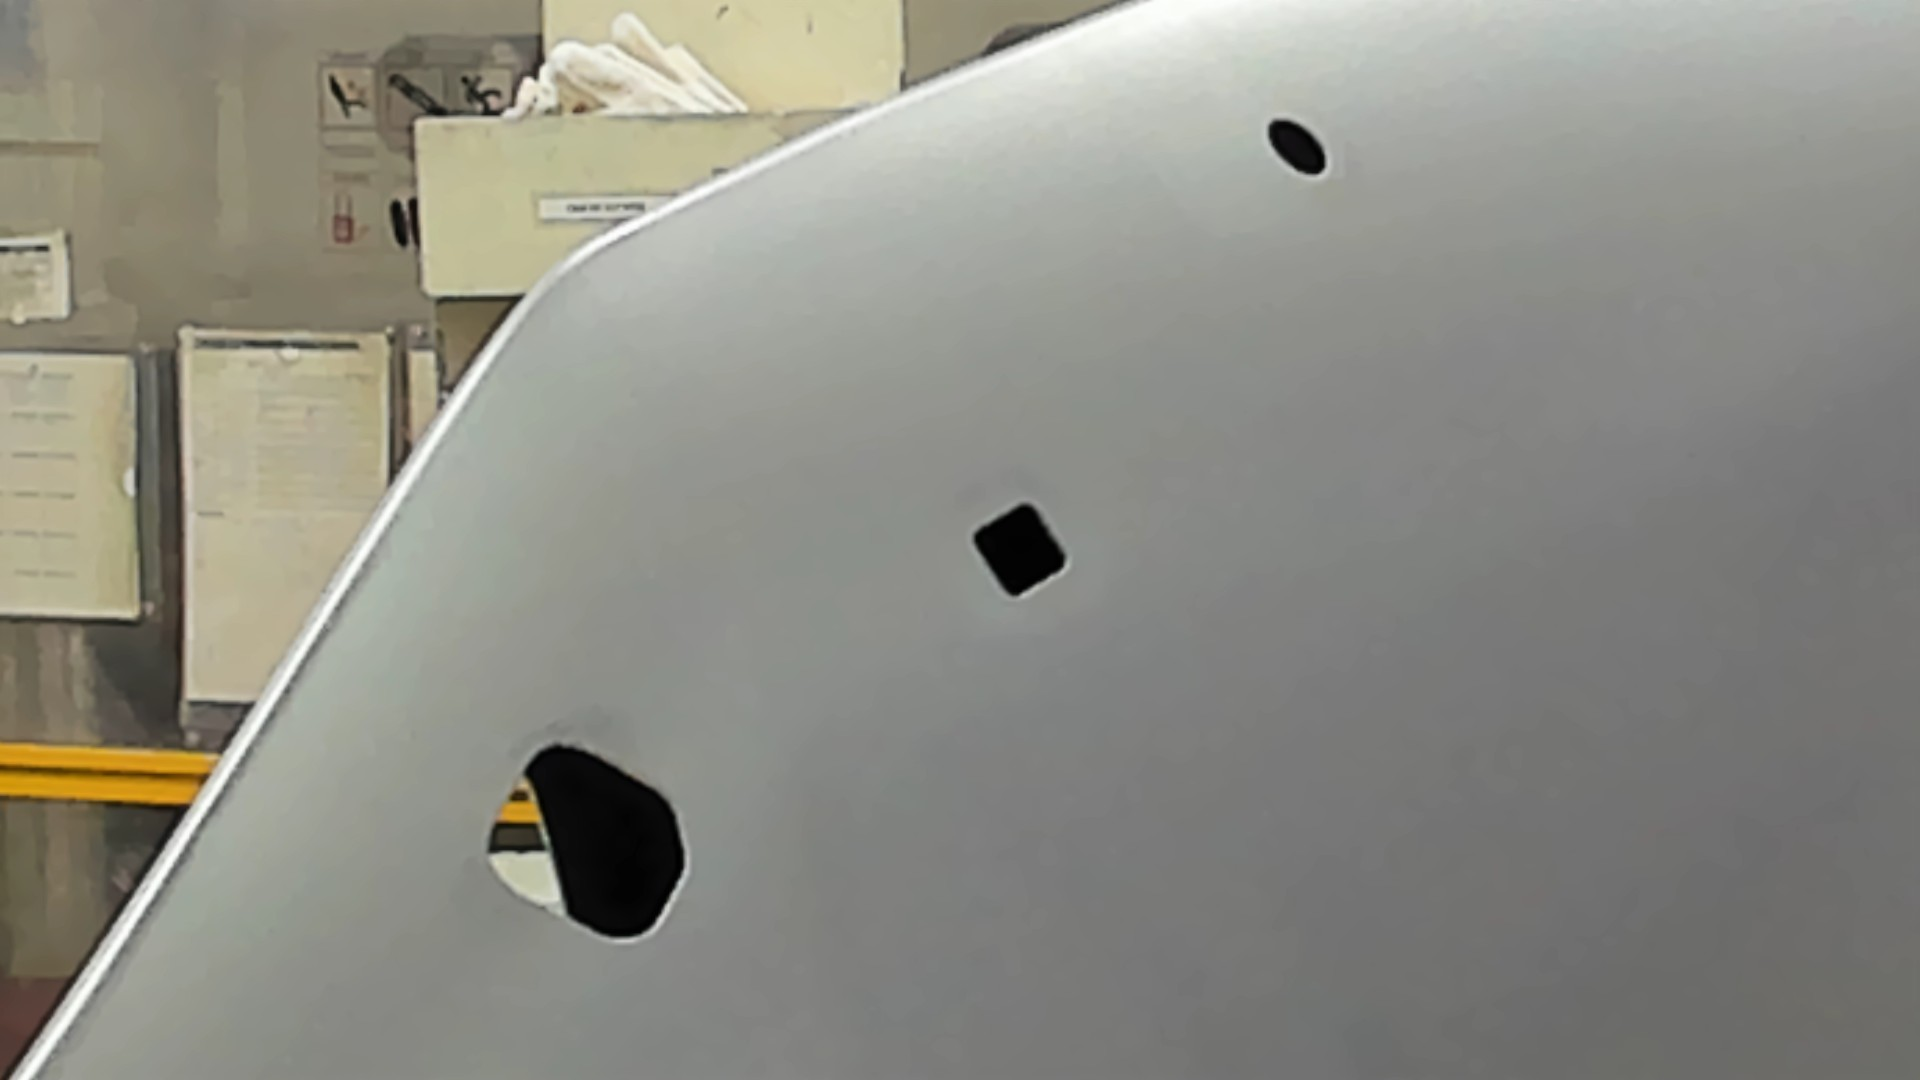chico: (1263, 113, 1333, 182)
grande: (483, 740, 702, 953)
mediano: (964, 496, 1077, 609)
